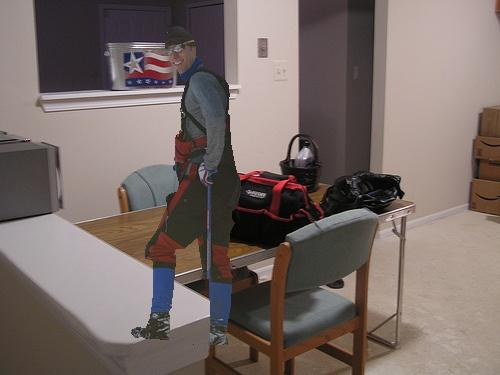tampered: (132, 27, 241, 345)
